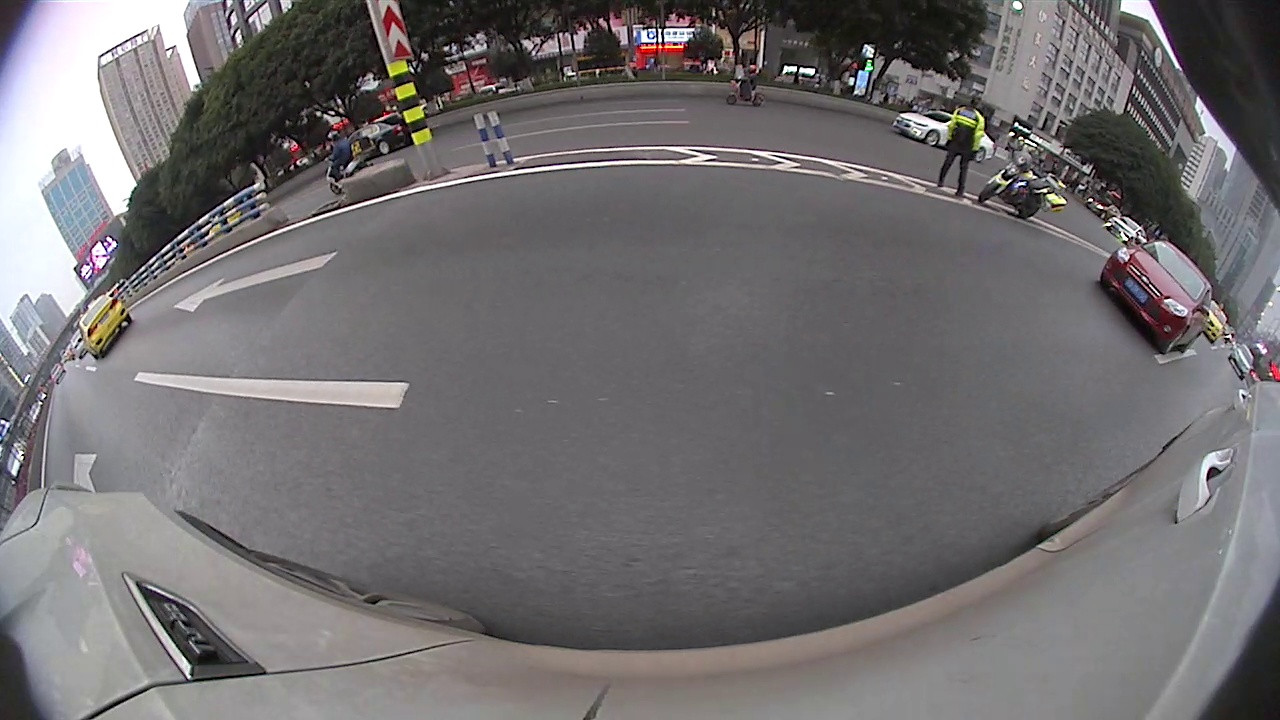car: (1099, 239, 1213, 354), (890, 106, 995, 163), (77, 294, 133, 362)
front: (926, 130, 939, 145)
person: (942, 96, 983, 194)
rear: (379, 142, 390, 154)
rider: (978, 150, 1068, 219), (325, 130, 374, 197), (725, 62, 766, 107)
